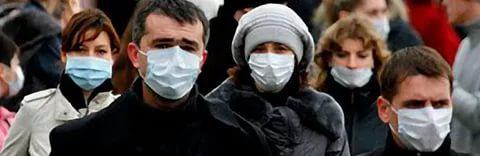mask: (133, 6, 205, 103), (389, 69, 454, 152), (248, 35, 296, 91), (327, 32, 375, 88), (65, 29, 112, 86), (1, 49, 26, 96)
